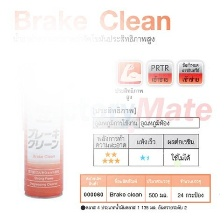aerosol_cans: (15, 60, 66, 201)
